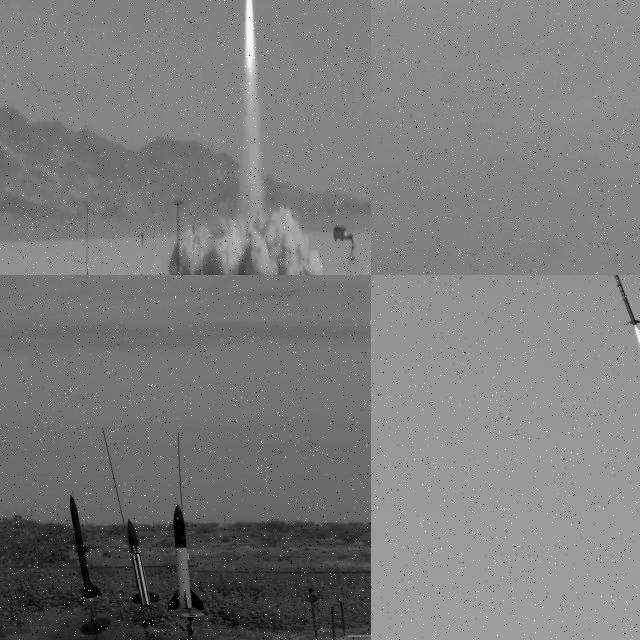Rocket: (167, 503, 205, 612), (69, 495, 103, 598), (126, 518, 161, 608), (613, 275, 640, 325)
